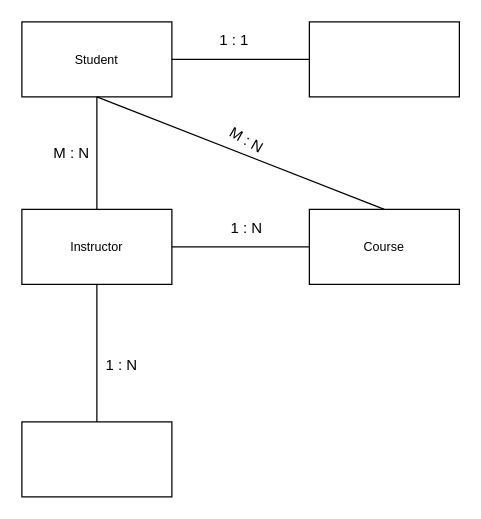
This 481x519 diagram has some shape labels left out. The shapes that lost their labels are listed below. From the top down, each one's box as (x1, y1, x2, y2) in pixels, then its label:
(308, 21, 459, 97): Address
(21, 421, 172, 497): Department
